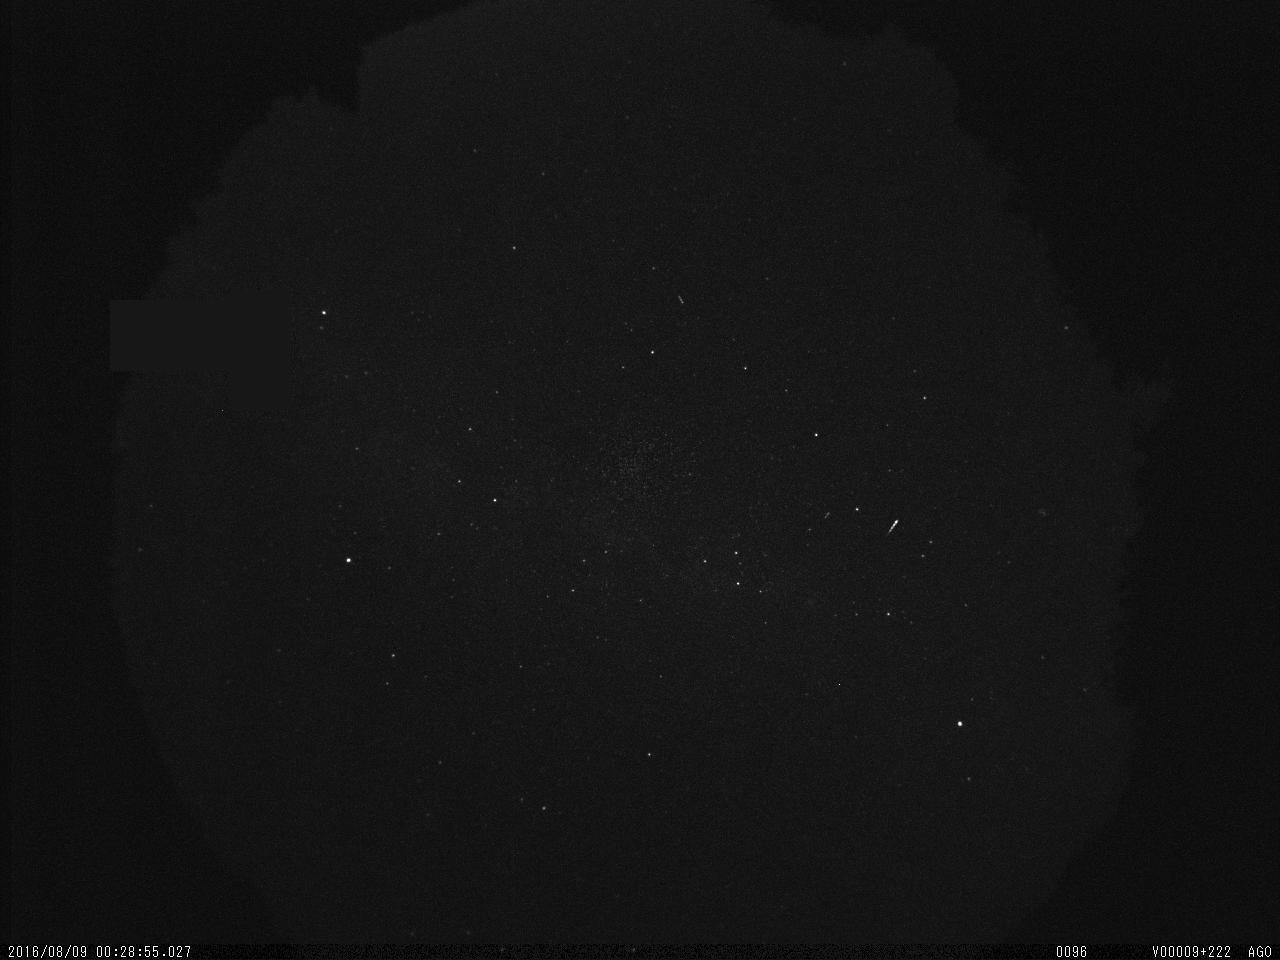meteor: (887, 516, 910, 539)
